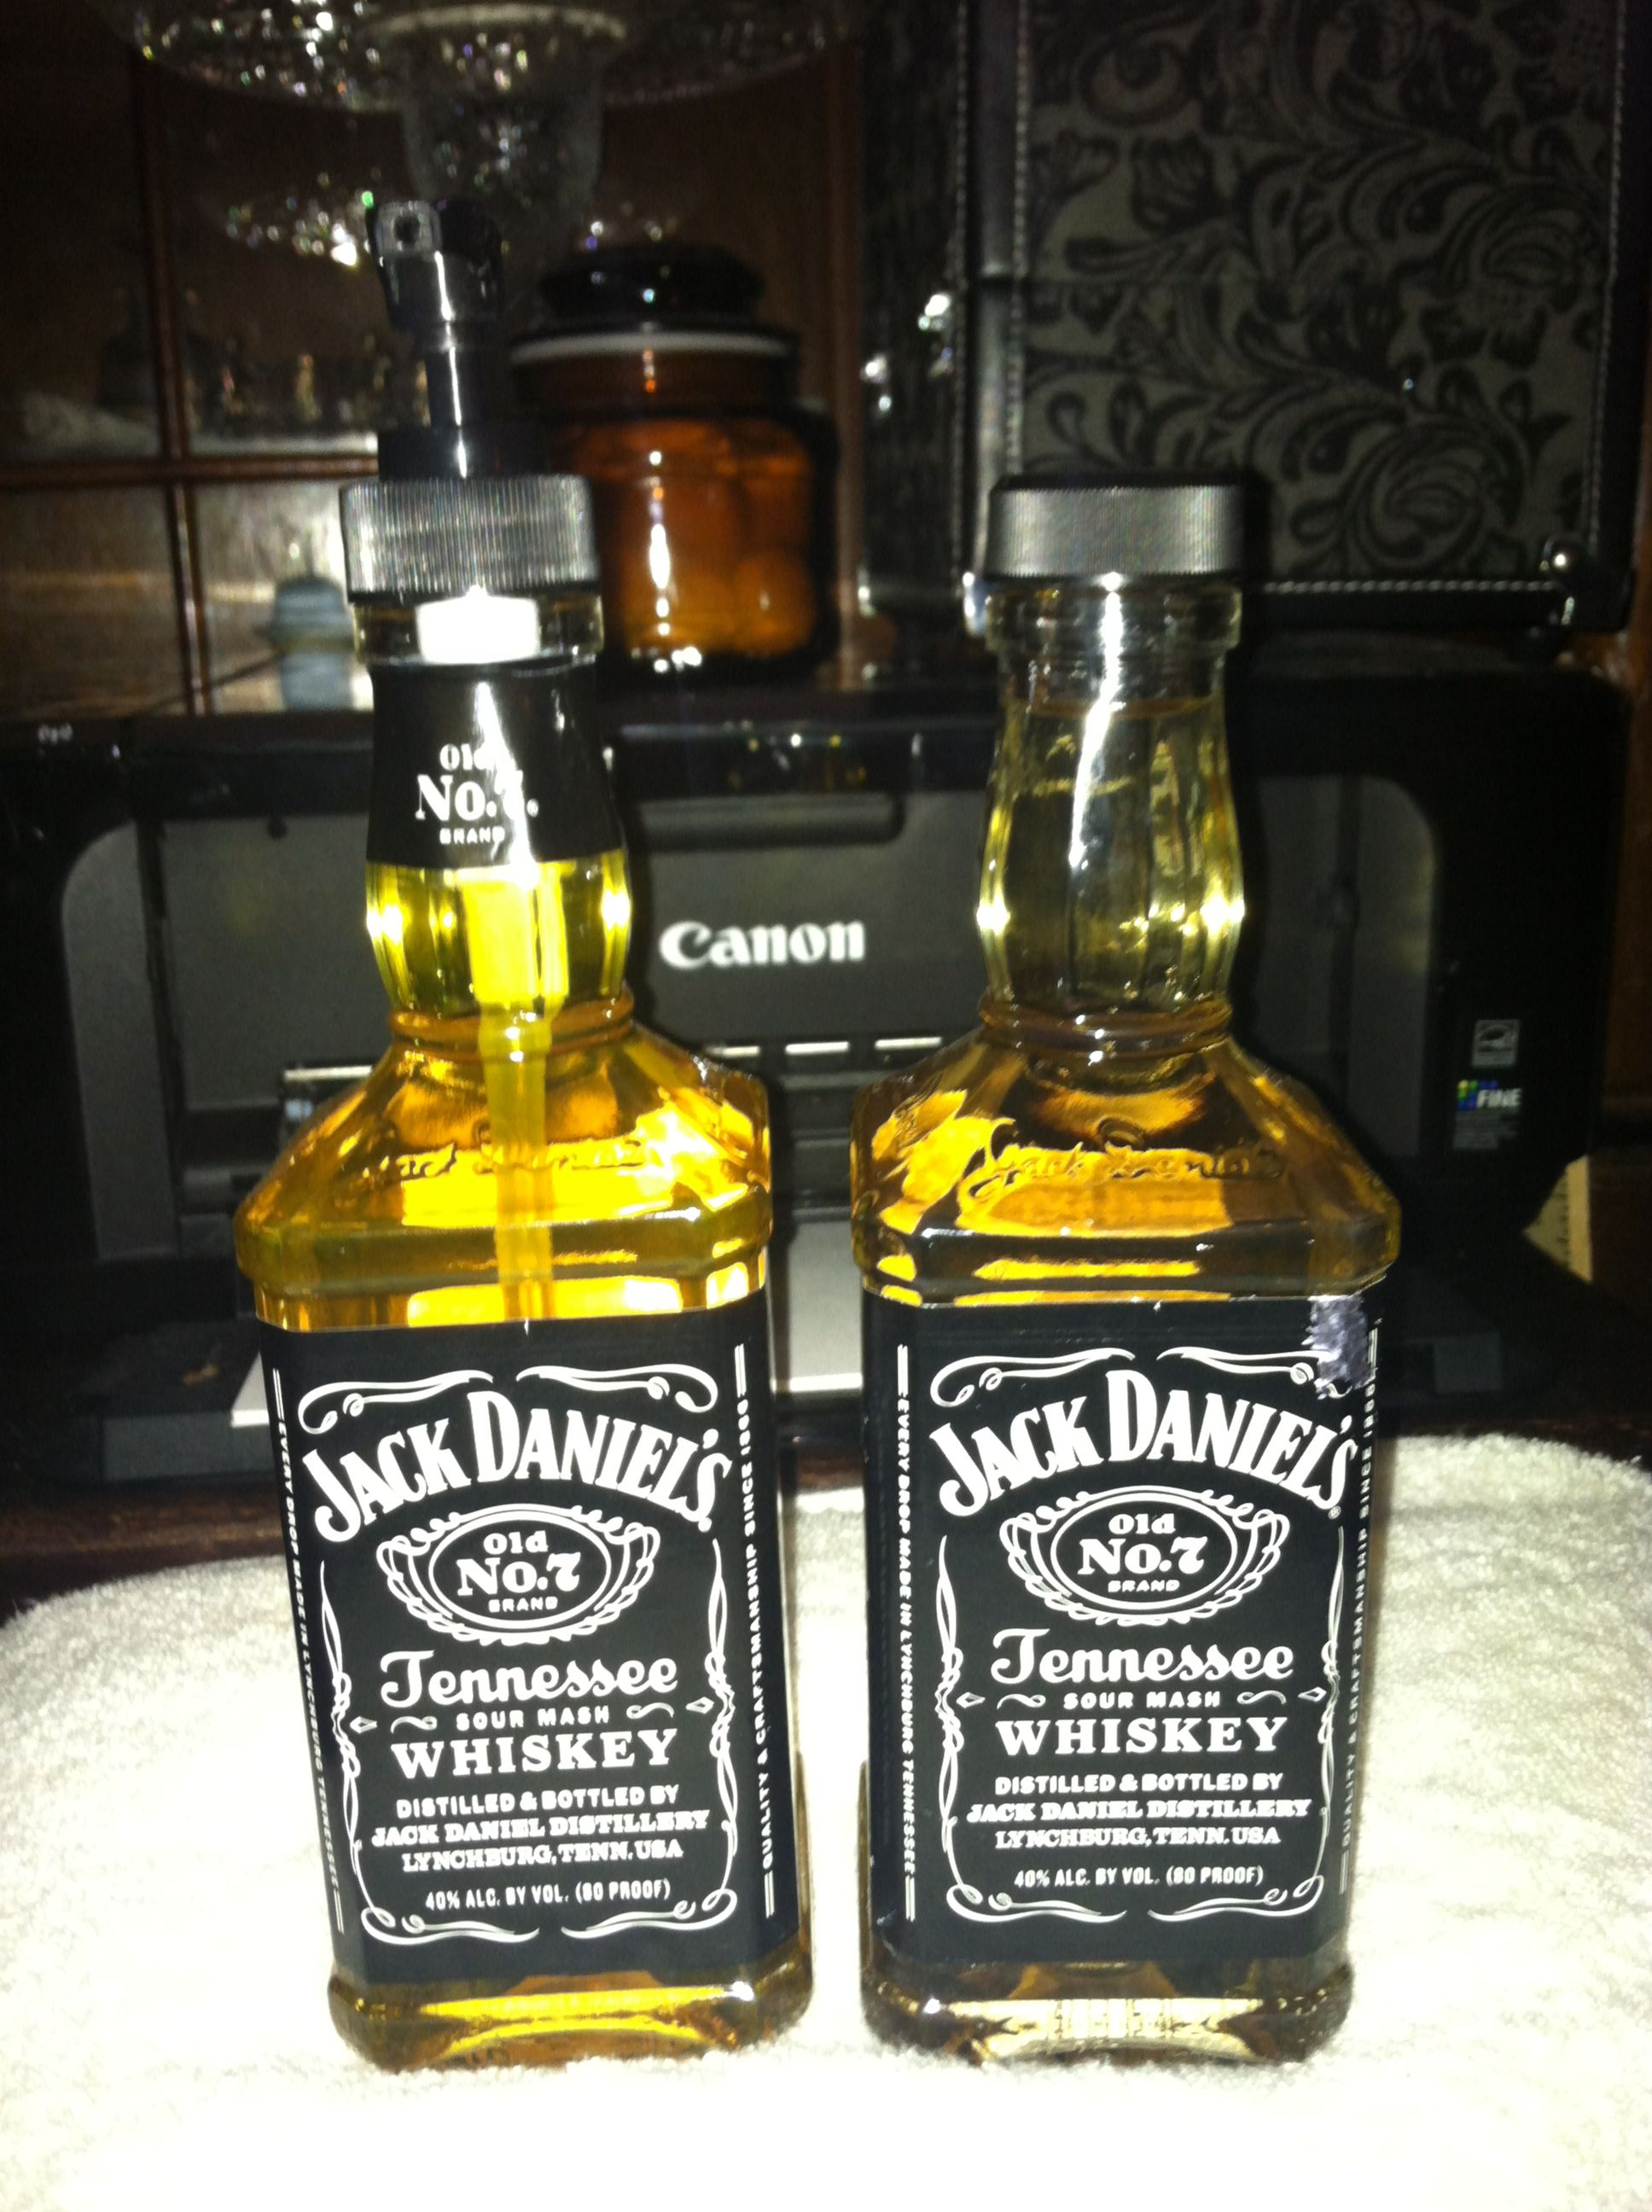Jack Daniel: (194, 413, 836, 2096), (823, 432, 1433, 2118)
